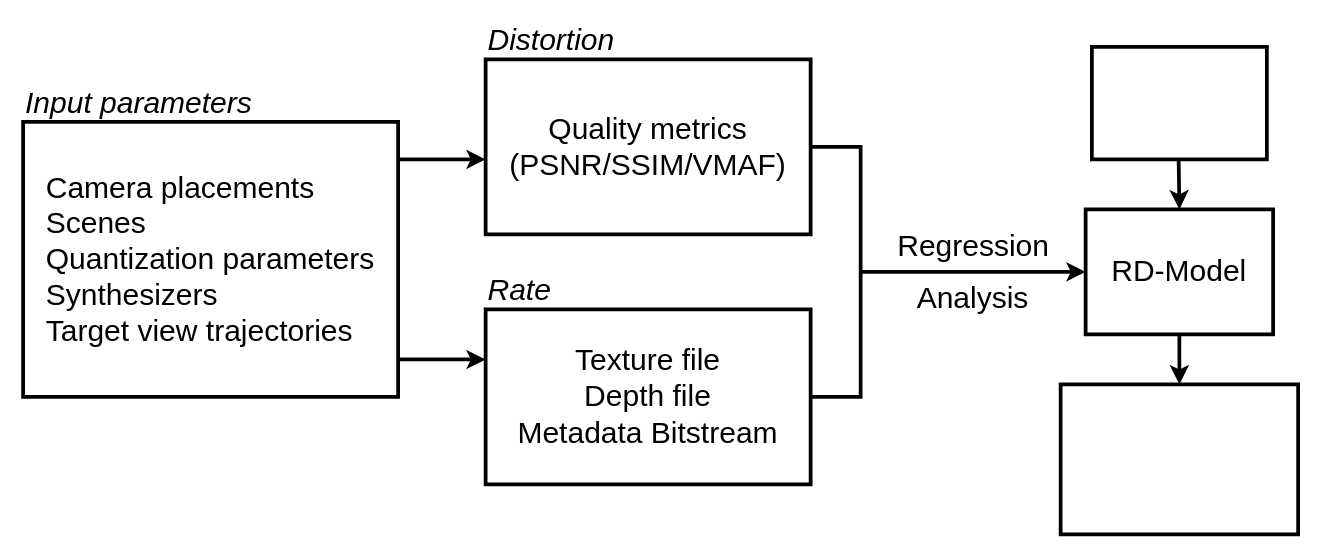
Image size: 1321x558. Some labels were removed from this diagram. Each missing label, with the centre of its shape:
Best quality and corresponding parameters: pixel 1178 459
Given Bandwidth: pixel 1178 102
